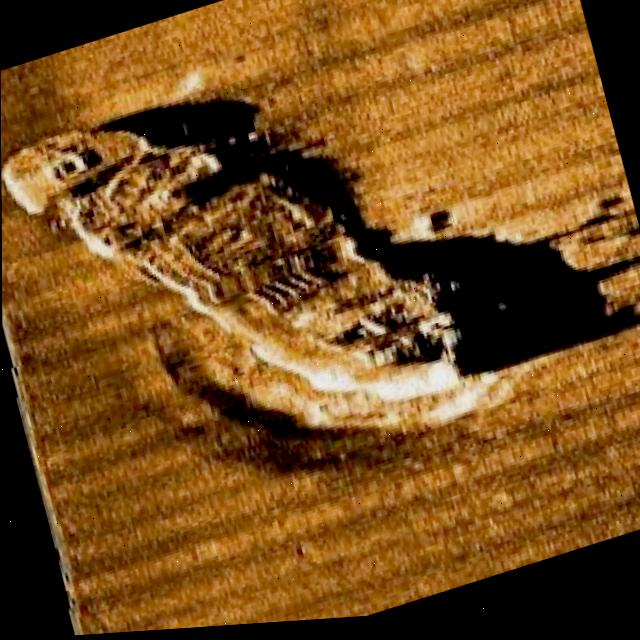shipwreck: (0, 24, 471, 513)
